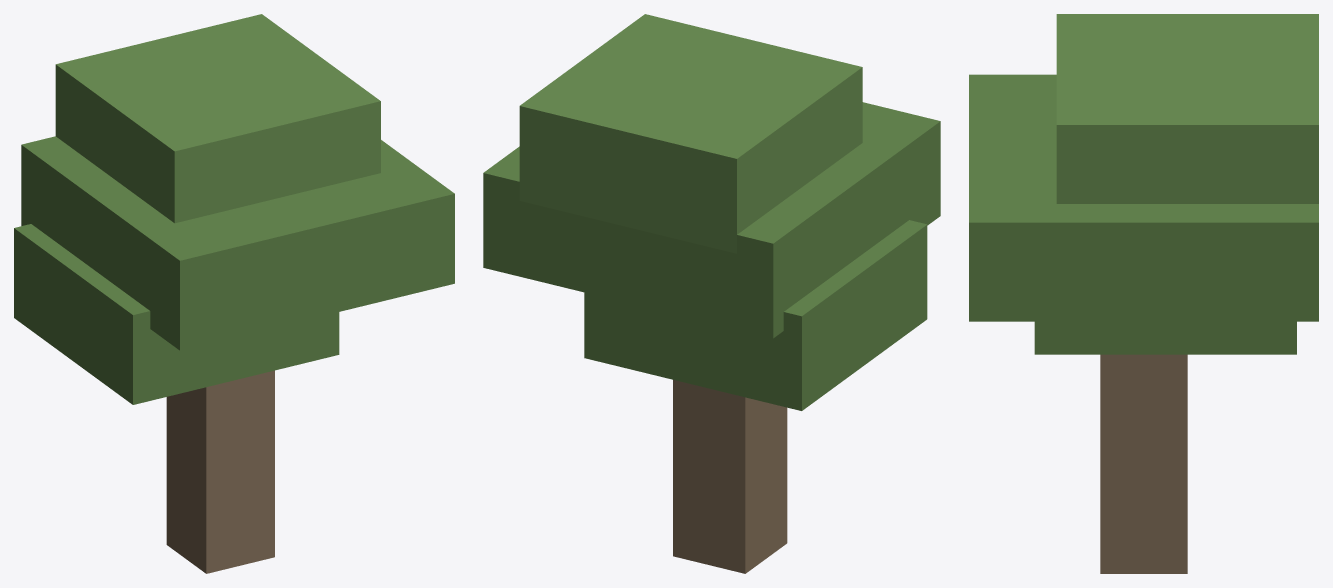
File: roble_grande_12.glb
The picture shows the model from 3 angles, left to right: view 1: azimuth 30°, elevation 25°; view 2: azimuth 150°, elevation 25°; view 3: azimuth 270°, elevation 25°; orthographic projection. The views are drawn at different scales.
Parts seen in each view (by area): view 1: roble_grande_12; view 2: roble_grande_12; view 3: roble_grande_12.
Part boxes in pixels (x1,y1,x2,y2): roble_grande_12: (14,14,454,573); roble_grande_12: (483,14,940,573); roble_grande_12: (969,14,1318,573).
Size of the model in its own units: 1.7 by 2.5 by 1.6.
